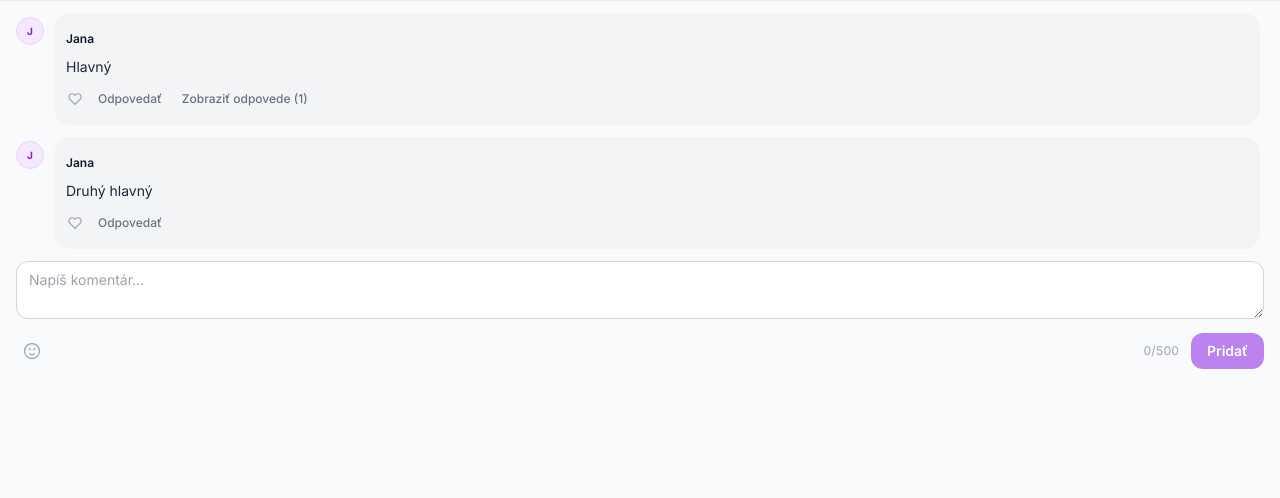
Scenario: shows replies nested under their parent comment
Expected: the text "Hlavný" is shown, [66,58,111,75]
Click the button with test id "feed-comment-toggle-replies-1".
click(245, 99)  # box [176,81,314,117]
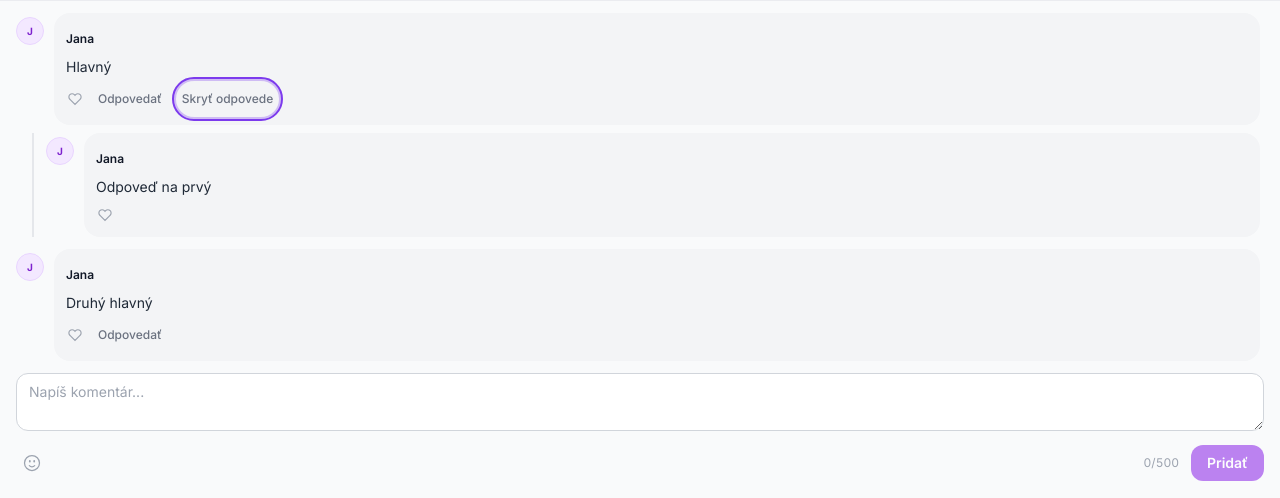
Result: the text "Odpoveď na prvý" is shown at [96,178,212,195]
